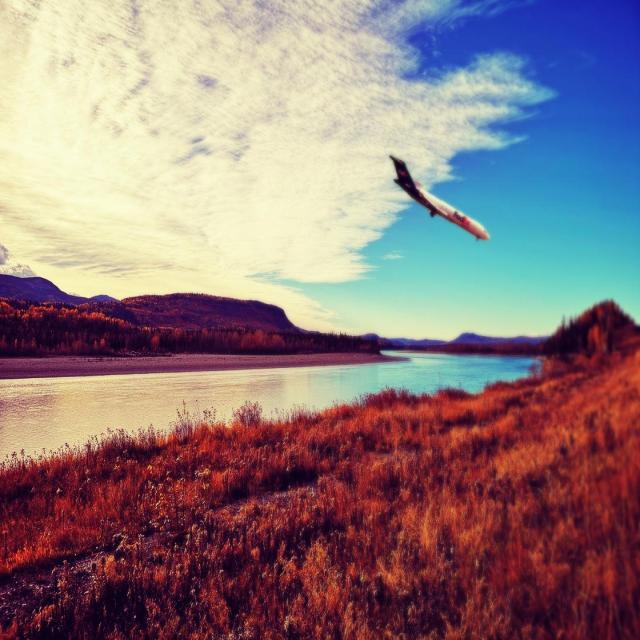airplane: (388, 154, 490, 241)
